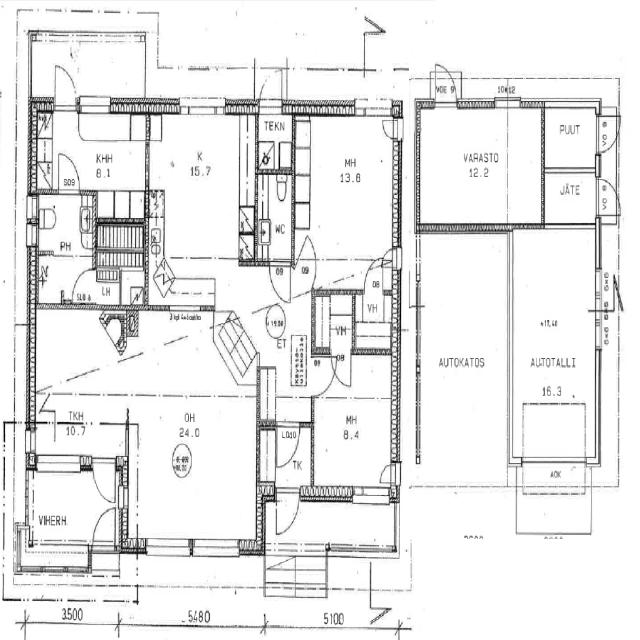door: (274, 422, 302, 471), (52, 61, 79, 110), (432, 63, 460, 110), (275, 489, 301, 539), (91, 458, 117, 506), (55, 149, 82, 195), (91, 504, 117, 551), (311, 354, 336, 397), (595, 175, 619, 219), (268, 259, 292, 302), (258, 69, 282, 112), (596, 114, 620, 154), (292, 252, 316, 292), (331, 350, 352, 391), (72, 266, 95, 303), (295, 230, 317, 266), (363, 261, 383, 293), (380, 115, 396, 140), (378, 462, 394, 487)
window: (191, 536, 241, 560), (144, 536, 192, 560), (35, 453, 82, 476), (350, 486, 392, 509), (180, 100, 227, 120), (78, 92, 114, 116), (412, 233, 424, 304), (354, 100, 393, 120), (167, 301, 204, 319), (236, 354, 258, 376), (42, 563, 67, 578), (394, 243, 404, 273), (22, 565, 44, 578)
zone: (413, 229, 510, 488), (132, 399, 257, 549), (148, 113, 256, 270), (295, 113, 397, 266), (511, 224, 600, 396), (314, 355, 396, 498), (417, 106, 511, 229), (48, 107, 147, 200), (32, 192, 95, 304), (506, 108, 543, 226), (543, 106, 598, 170), (95, 221, 146, 289), (257, 172, 294, 263), (542, 170, 599, 228), (353, 289, 397, 352), (312, 292, 355, 354), (257, 113, 294, 174), (326, 555, 370, 595)
